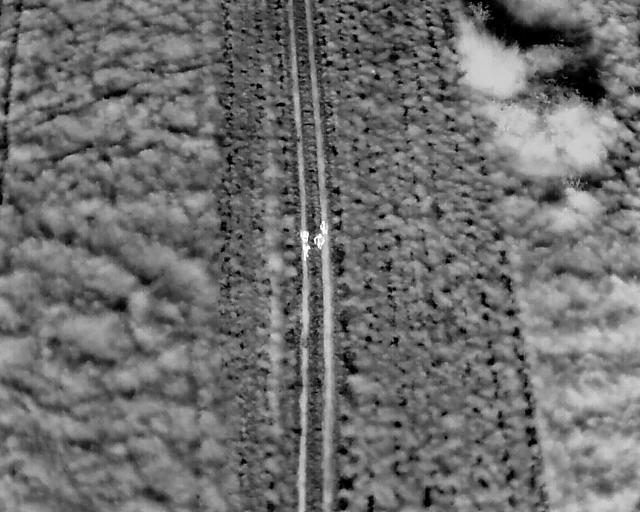person: (312, 232, 326, 252), (318, 216, 330, 237), (300, 241, 310, 262), (298, 228, 309, 245)
